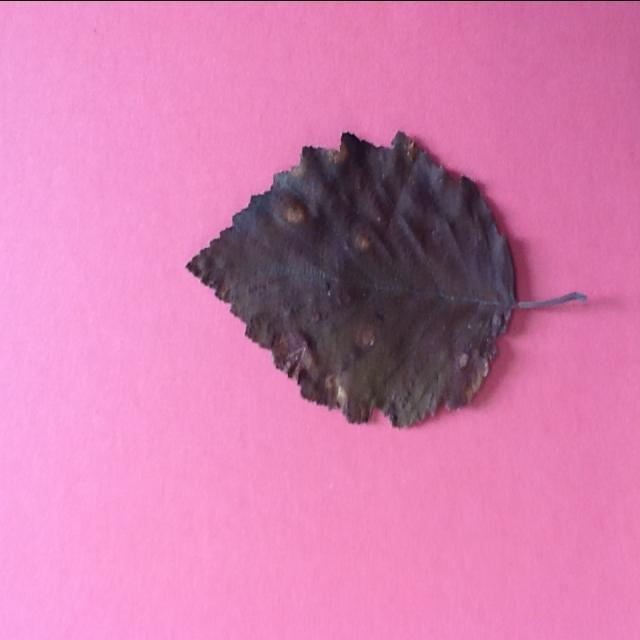foliage: (179, 122, 593, 434)
